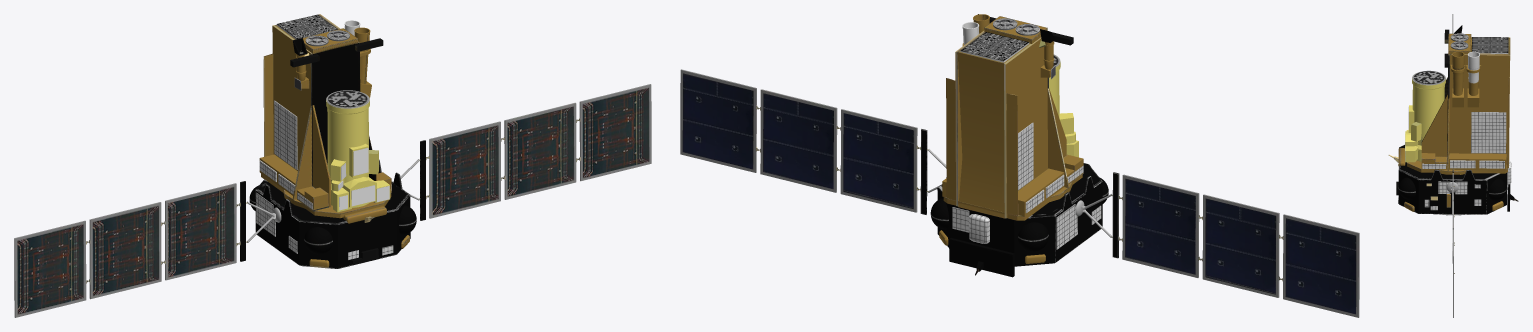
The model's file is integral.glb.
The picture shows the model from 3 angles, left to right: view 1: azimuth 30°, elevation 25°; view 2: azimuth 150°, elevation 25°; view 3: azimuth 270°, elevation 25°; orthographic projection. The views are drawn at different scales.
Visible parts, largest first — view 1: solar, svm, ibis, spi, jemx, omc; view 2: solar, svm, ibis, jemx, spi, omc; view 3: svm, ibis, spi, jemx, solar, omc.
Boxes of the visible parts, bbox=[...] form: solar: bbox=[14, 84, 651, 317]; svm: bbox=[249, 20, 416, 268]; ibis: bbox=[272, 14, 360, 186]; spi: bbox=[326, 90, 390, 212]; jemx: bbox=[303, 28, 357, 53]; omc: bbox=[290, 38, 319, 90]; solar: bbox=[680, 69, 1359, 317]; svm: bbox=[930, 14, 1108, 277]; ibis: bbox=[955, 30, 1048, 218]; jemx: bbox=[984, 16, 1047, 43]; spi: bbox=[1049, 54, 1078, 157]; omc: bbox=[1039, 29, 1073, 79]; svm: bbox=[1388, 51, 1518, 215]; ibis: bbox=[1447, 37, 1510, 168]; spi: bbox=[1405, 70, 1445, 162]; jemx: bbox=[1448, 33, 1471, 54]; solar: bbox=[1452, 14, 1454, 317]; omc: bbox=[1444, 25, 1462, 43].
Size of the model in its own units: 630 by 199 by 143.
Materials: 1 (1 with a texture image).
